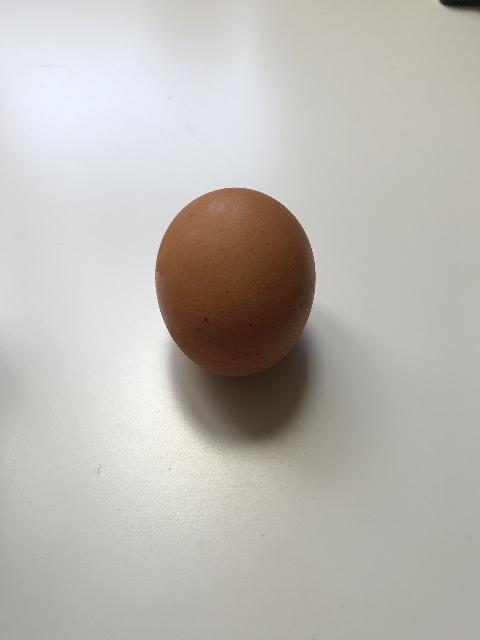Sano: (154, 186, 317, 378)
